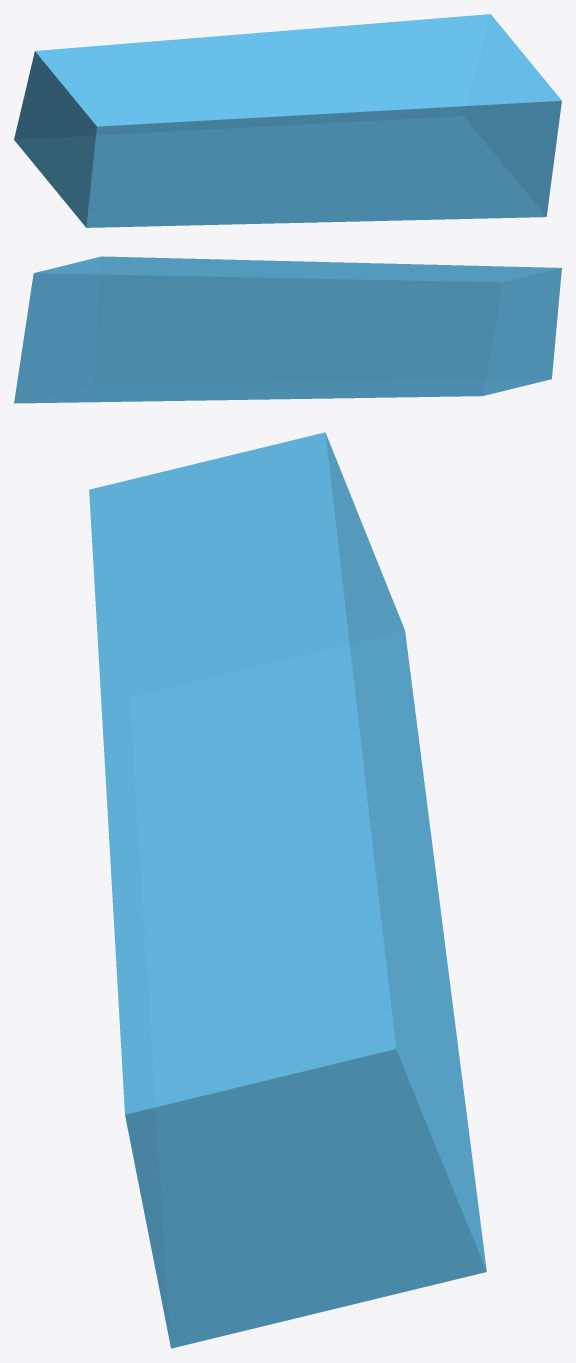
Rendered from Event_421556567_HErechit_32.fbx.
3 renders of one model, top to bottom at view 1: azimuth 30°, elevation 25°; view 2: azimuth 150°, elevation 25°; view 3: azimuth 270°, elevation 25°, orthographic. The views are drawn at different scales.
Visible parts, largest first — view 1: Model; view 2: Model; view 3: Model.
Boxes of the visible parts, x1,y1,x2,y2 form: Model: (14,14,561,227); Model: (14,256,561,403); Model: (89,432,486,1348).
Bounding box in the file's own units: 1.5 × 0.7579 × 0.5708.
